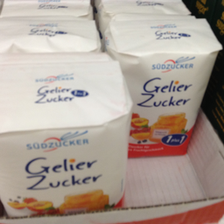sugar: (1, 55, 132, 218), (107, 15, 221, 160)
